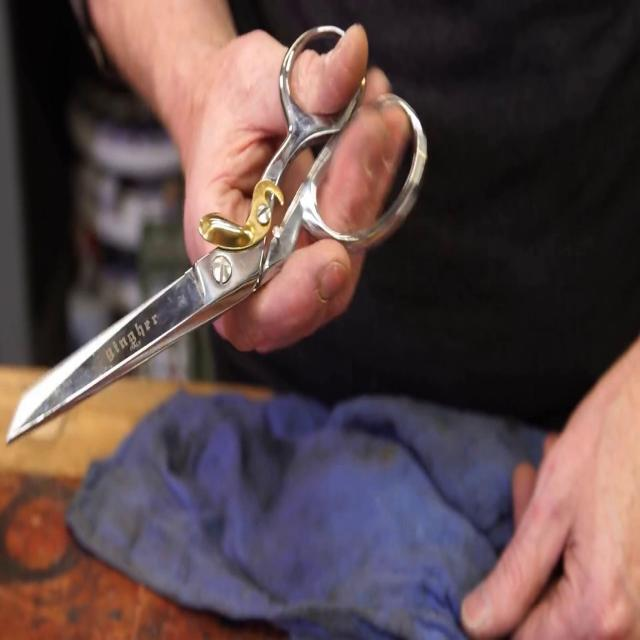scissor: (5, 24, 426, 444)
